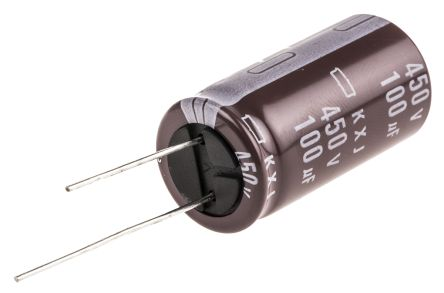capacitor: (147, 11, 438, 259)
